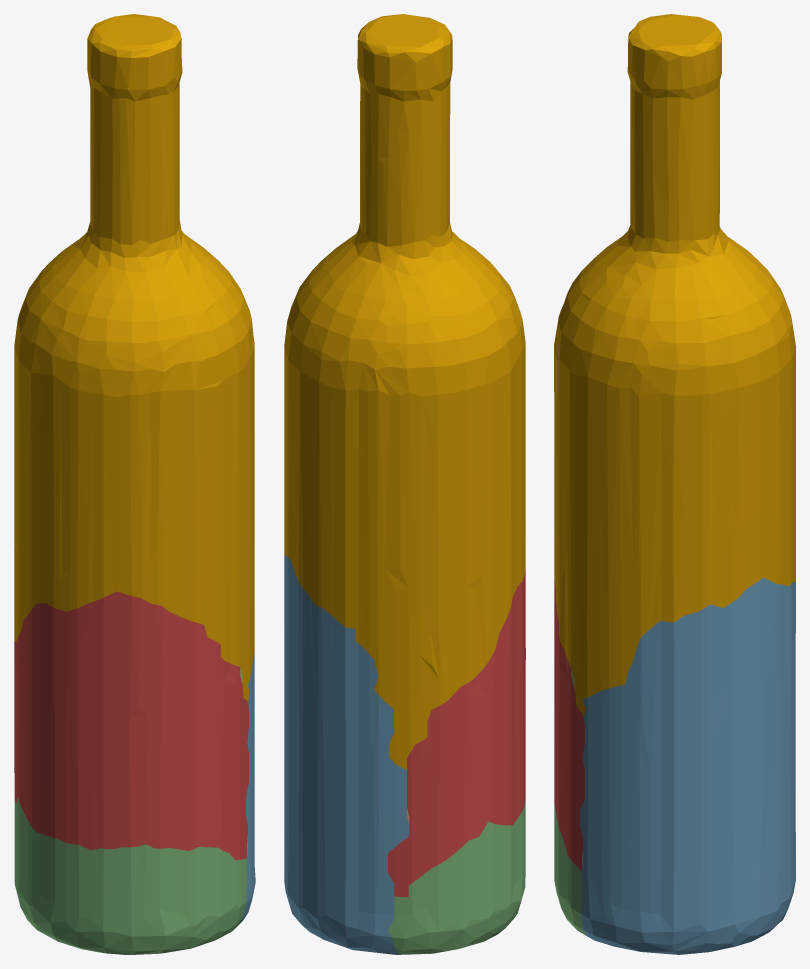
Rendered from mode_5_8pcs.glb.
3 renders of one model, left to right at view 1: azimuth 30°, elevation 25°; view 2: azimuth 150°, elevation 25°; view 3: azimuth 270°, elevation 25°, orthographic.
Parts seen in each view (by area): view 1: piece_0.obj, piece_1.obj, piece_3.obj, piece_2.obj; view 2: piece_0.obj, piece_2.obj, piece_1.obj, piece_3.obj; view 3: piece_0.obj, piece_2.obj, piece_1.obj, piece_3.obj.
Part boxes in pixels (x1,y1,x2,y2): piece_0.obj: (14, 14, 254, 701); piece_1.obj: (14, 591, 248, 860); piece_3.obj: (14, 797, 246, 954); piece_2.obj: (238, 651, 255, 924); piece_0.obj: (284, 14, 525, 769); piece_2.obj: (284, 554, 409, 954); piece_1.obj: (388, 568, 525, 897); piece_3.obj: (387, 799, 525, 954); piece_0.obj: (554, 14, 795, 716); piece_2.obj: (580, 578, 795, 954); piece_1.obj: (554, 580, 584, 870); piece_3.obj: (554, 804, 585, 935).
Bounding box in the file's own units: 0.2492 × 1 × 0.2492.
